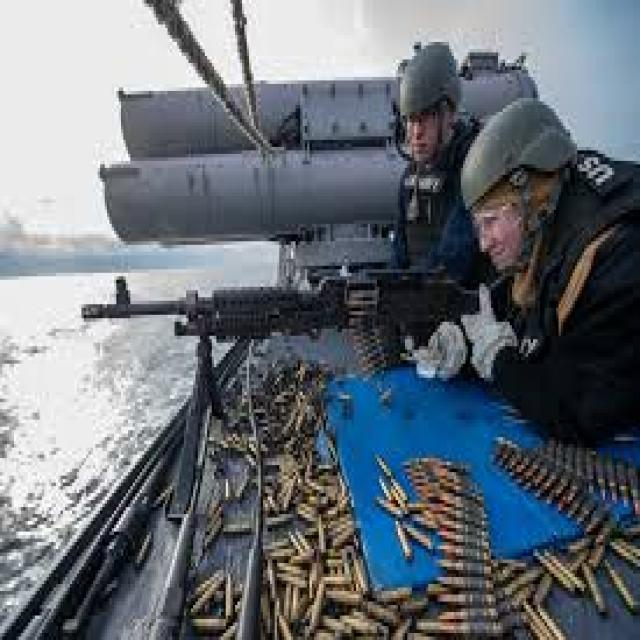Gun: (46, 224, 524, 524)
